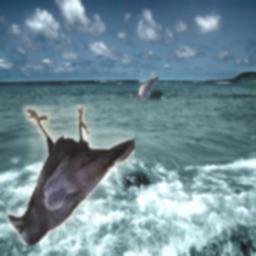Crow: (7, 105, 135, 245)
Swallow: (137, 72, 159, 101)
